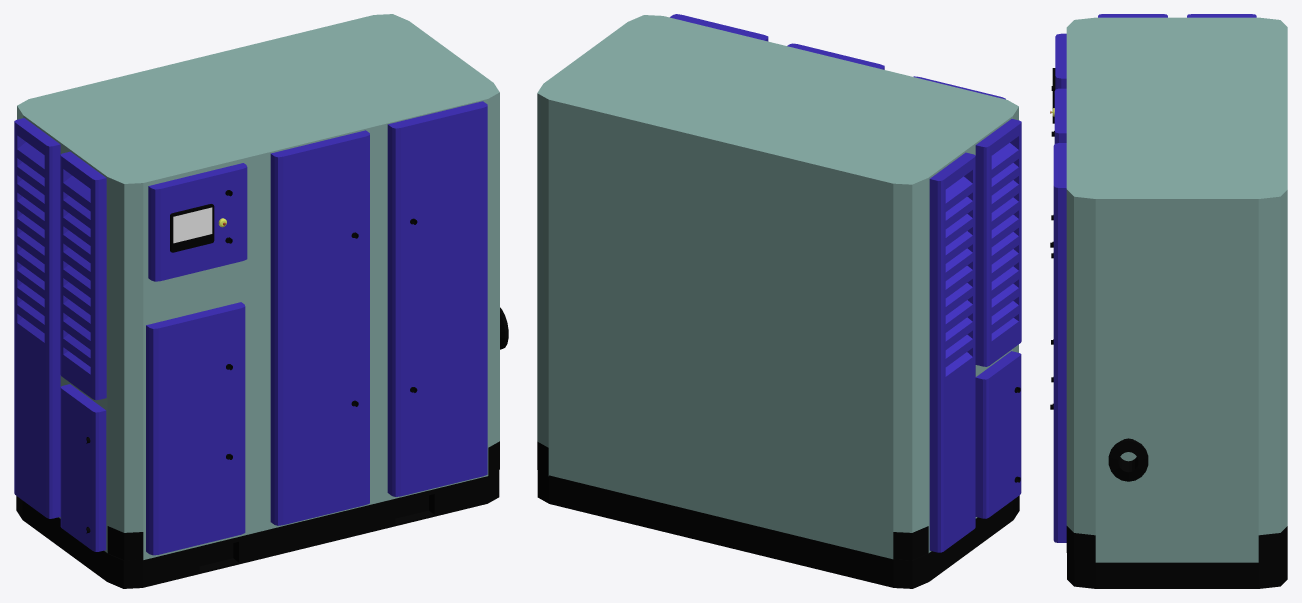
File: kongyaji.glb
The picture shows the model from 3 angles, left to right: view 1: azimuth 30°, elevation 25°; view 2: azimuth 150°, elevation 25°; view 3: azimuth 270°, elevation 25°; orthographic projection. The views are drawn at different scales.
Visible parts, largest first — view 1: kongyaji006; view 2: kongyaji006; view 3: kongyaji006.
Boxes of the visible parts, x1=… form: kongyaji006: x1=14, y1=14, x2=508, y2=588; kongyaji006: x1=537, y1=14, x2=1021, y2=588; kongyaji006: x1=1050, y1=14, x2=1287, y2=588.
Bounding box in the file's own units: 2.17 × 1.99 × 1.1.
